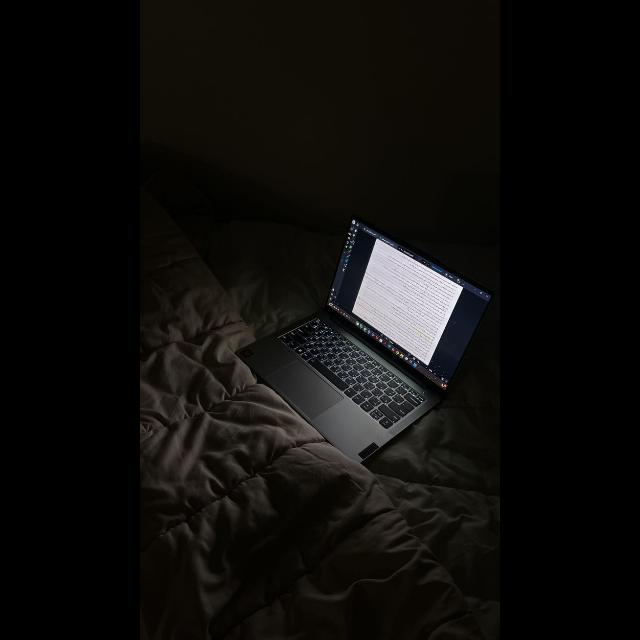laptop: (235, 217, 494, 462), (340, 422, 342, 424)
